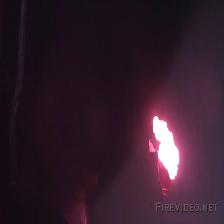nofire: (135, 108, 192, 195)
